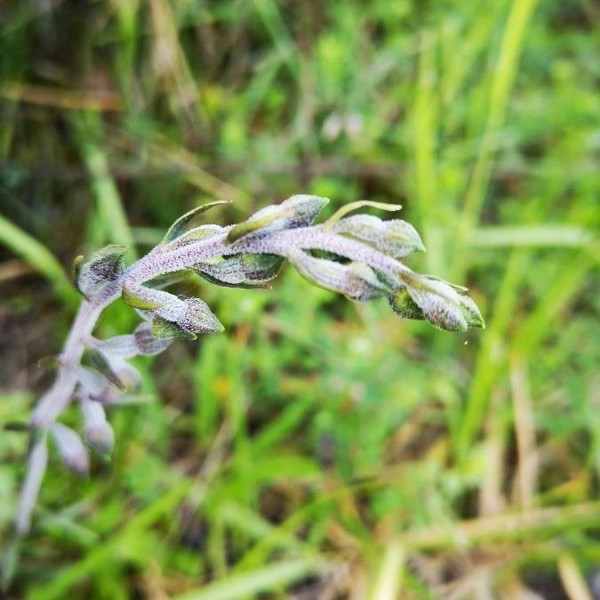obstacle: (35, 179, 434, 481)
